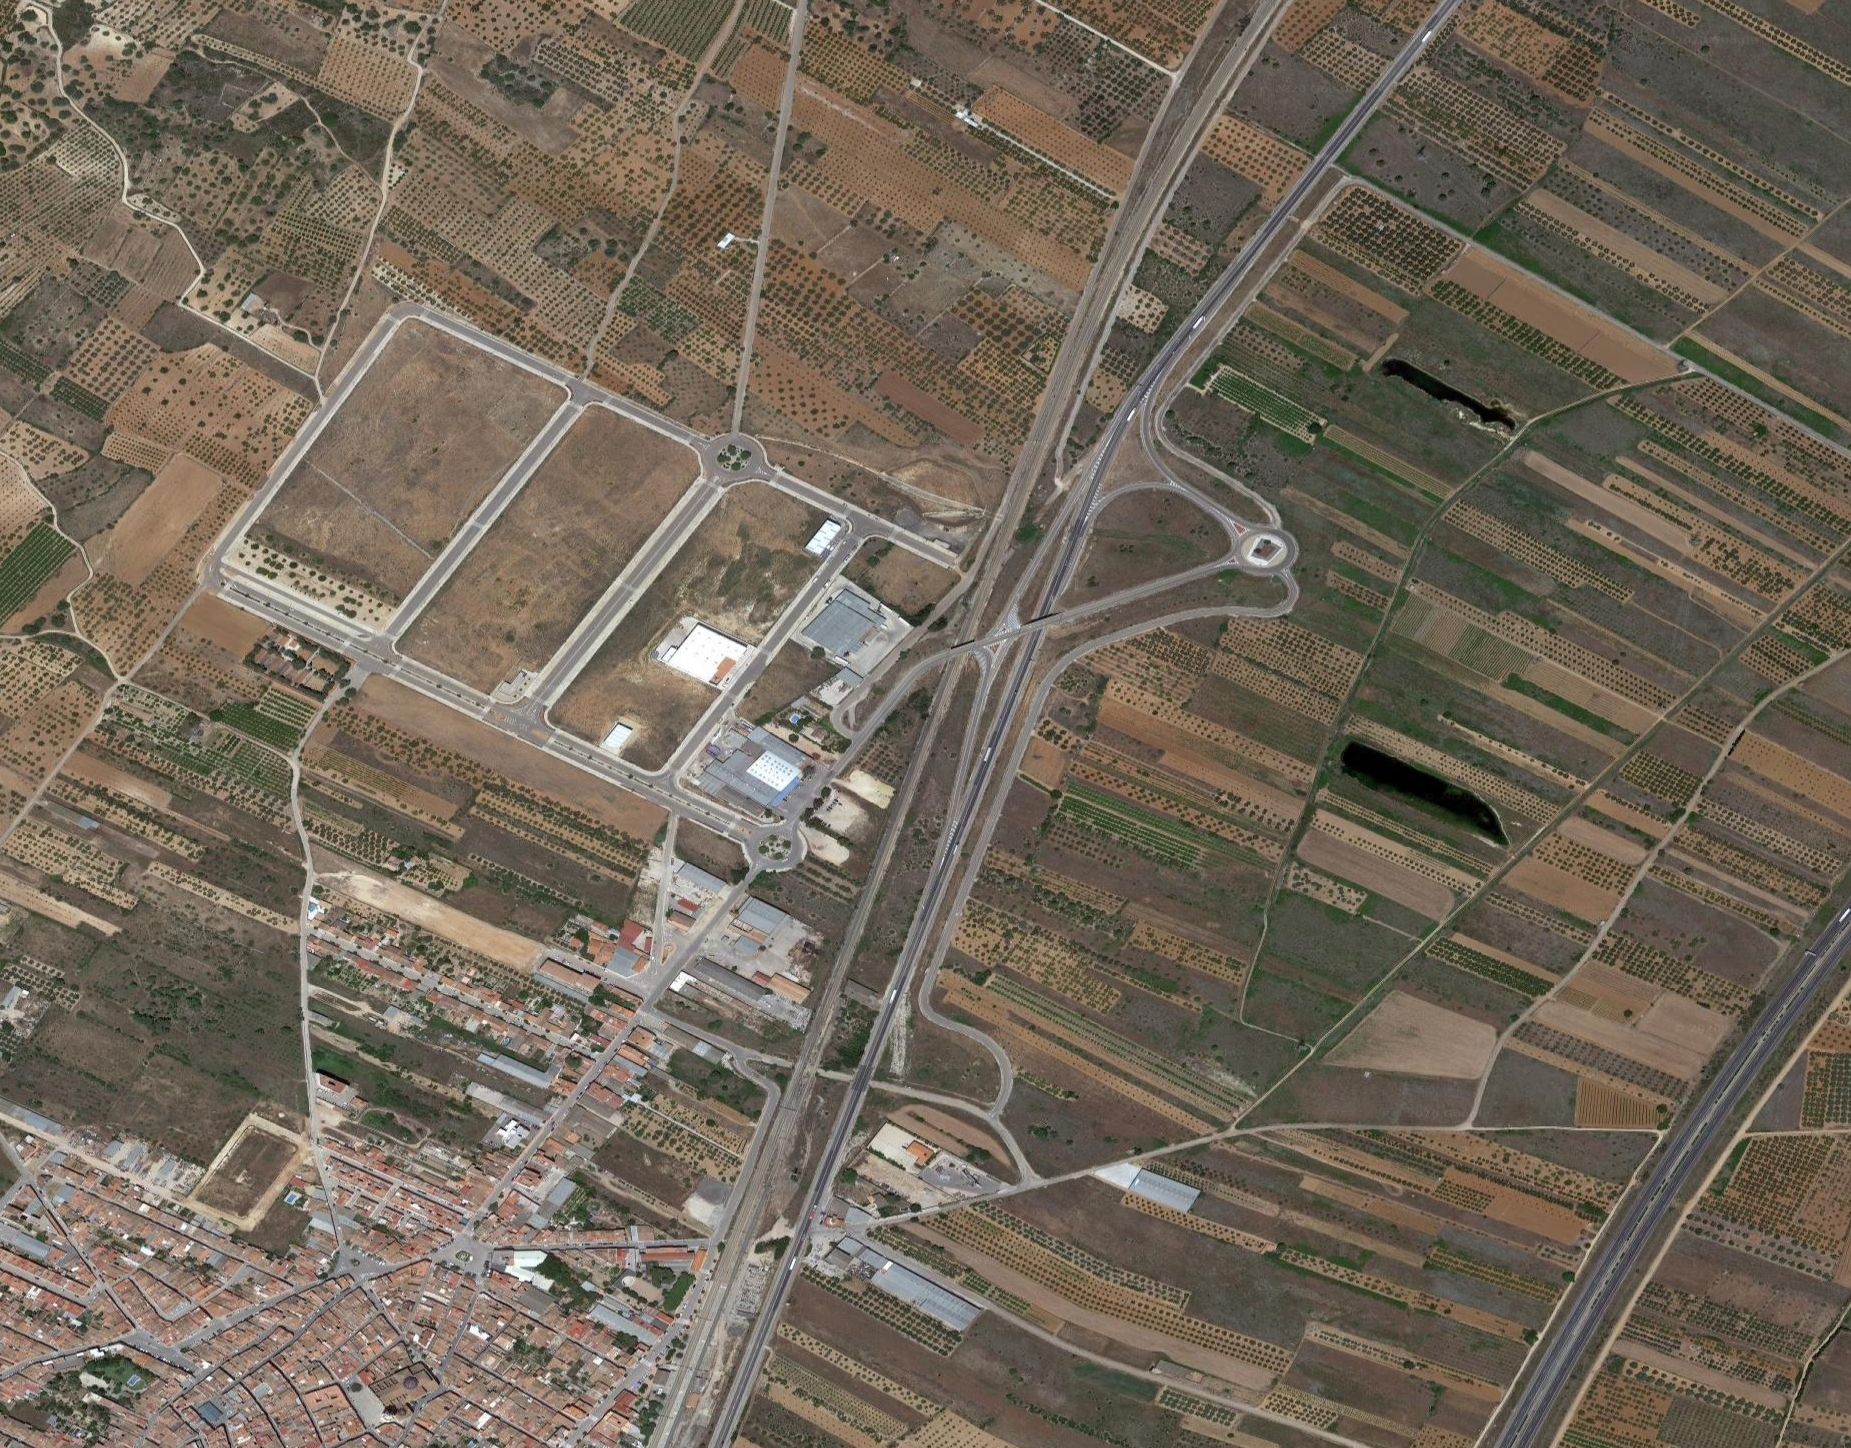industrial: (222, 327, 998, 834)
motorway: (986, 2, 1499, 608), (681, 608, 1052, 1448), (1421, 858, 1851, 1448)
